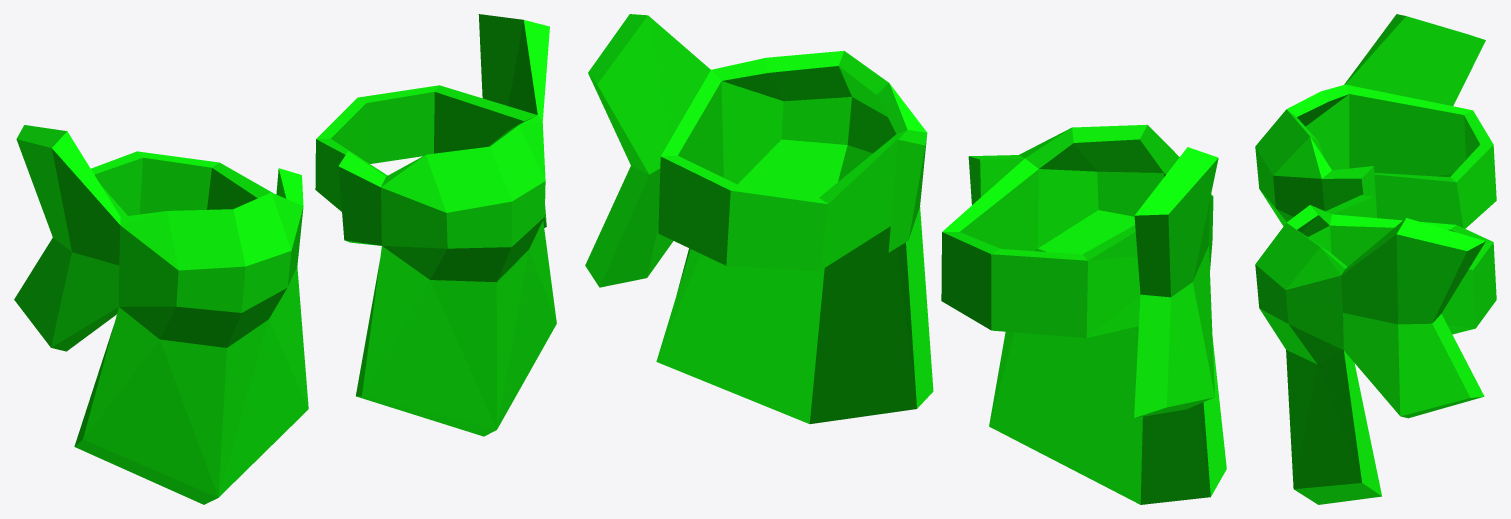
Rendered from SM_Armor_Legs_B_Hanging_Fantasy.fbx.
3 views of the same model, side by side, from view 1: azimuth 30°, elevation 25°; view 2: azimuth 150°, elevation 25°; view 3: azimuth 270°, elevation 25° (orthographic). The views are drawn at different scales.
Visible parts, largest first — view 1: armor-legs-b-hanging-fantasy; view 2: armor-legs-b-hanging-fantasy; view 3: armor-legs-b-hanging-fantasy.
Part boxes in pixels (x1,y1,x2,y2): armor-legs-b-hanging-fantasy: (14,14,556,504); armor-legs-b-hanging-fantasy: (585,14,1226,504); armor-legs-b-hanging-fantasy: (1255,14,1496,504).
Size of the model in its own units: 0.3886 by 0.2682 by 0.18.
